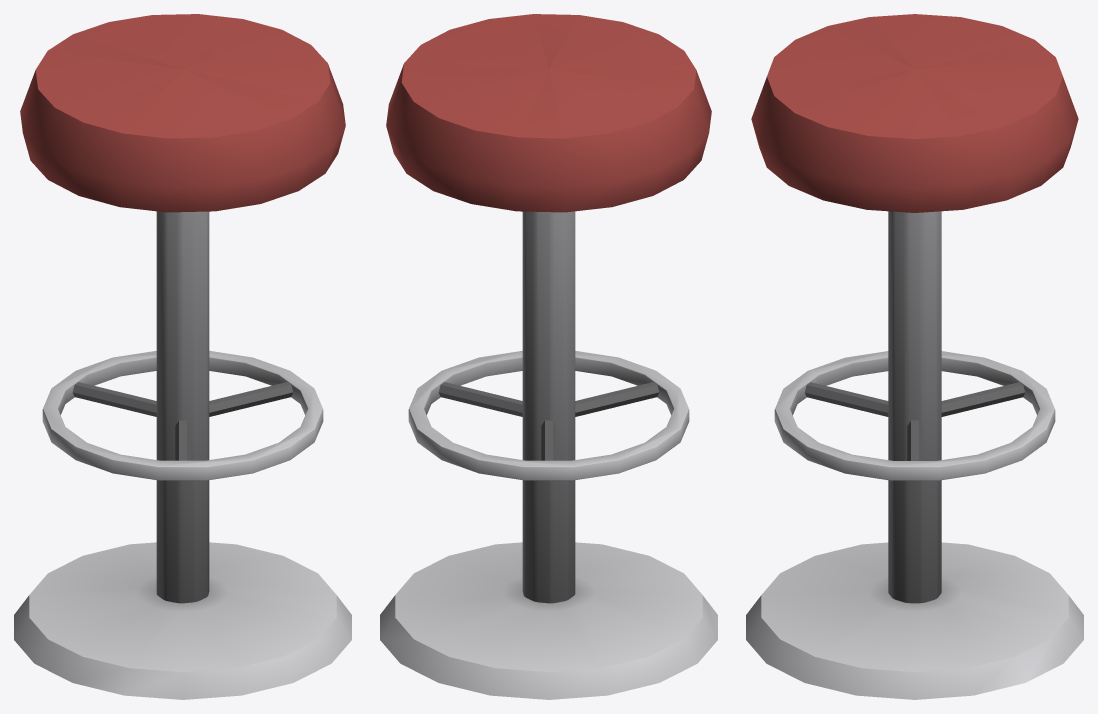
The model's file is stool.glb.
3 renders of one model, left to right at view 1: azimuth 30°, elevation 25°; view 2: azimuth 150°, elevation 25°; view 3: azimuth 270°, elevation 25°, orthographic.
Visible parts, largest first — view 1: boat_chrome2, boat_redleather; view 2: boat_chrome2, boat_redleather; view 3: boat_chrome2, boat_redleather.
Part boxes in pixels (x1,y1,x2,y2): boat_chrome2: (14,211,351,699); boat_redleather: (20,14,345,212); boat_chrome2: (380,211,717,699); boat_redleather: (386,14,711,212); boat_chrome2: (746,211,1083,699); boat_redleather: (751,14,1078,212).
Bounding box in the file's own units: 0.44 × 0.79 × 0.4333.
